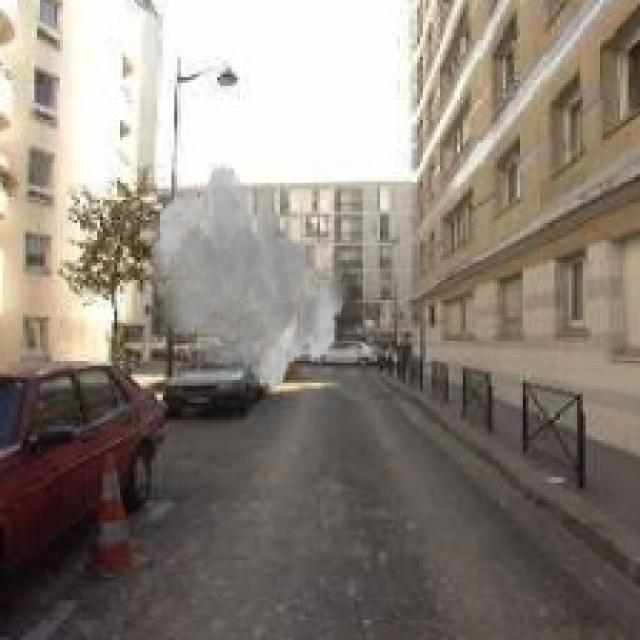Smoke: (146, 162, 348, 392)
